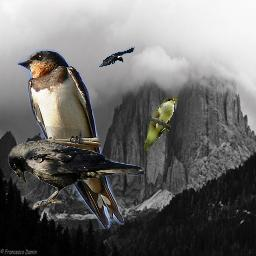Crow: (8, 140, 146, 210), (98, 46, 135, 67)
Cuckoo: (143, 97, 180, 151)
Swallow: (16, 49, 124, 229)
